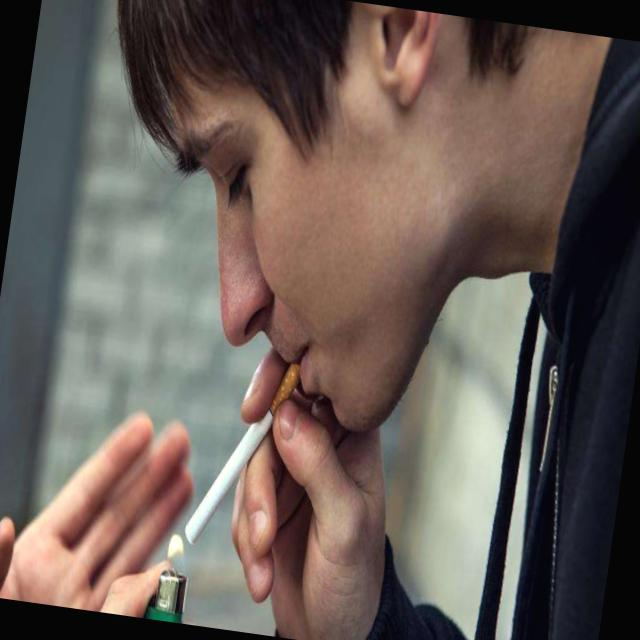smoke: (182, 406, 250, 567)
